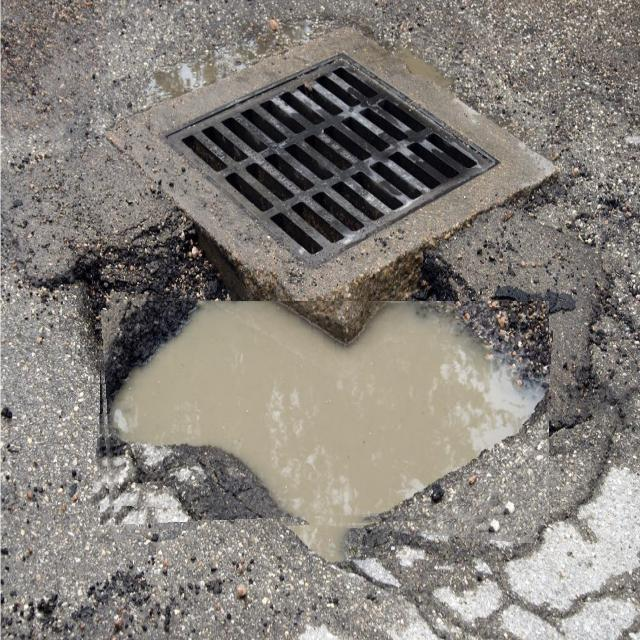Pothole: (96, 301, 549, 534)
